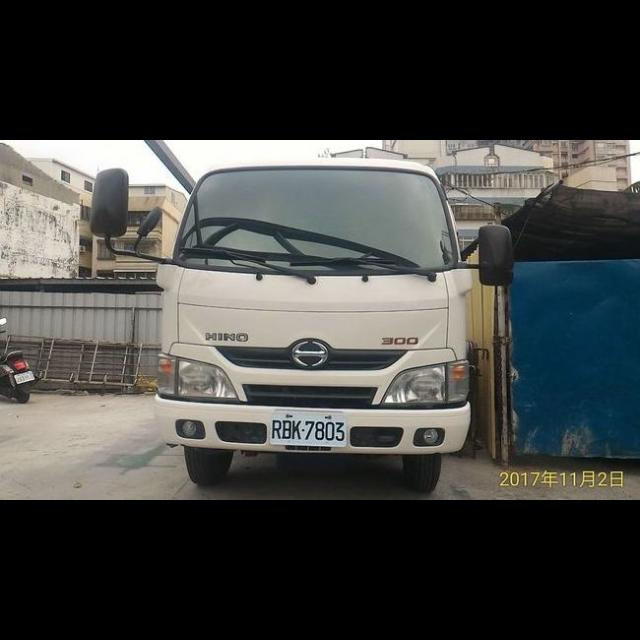plate: (270, 413, 346, 447)
